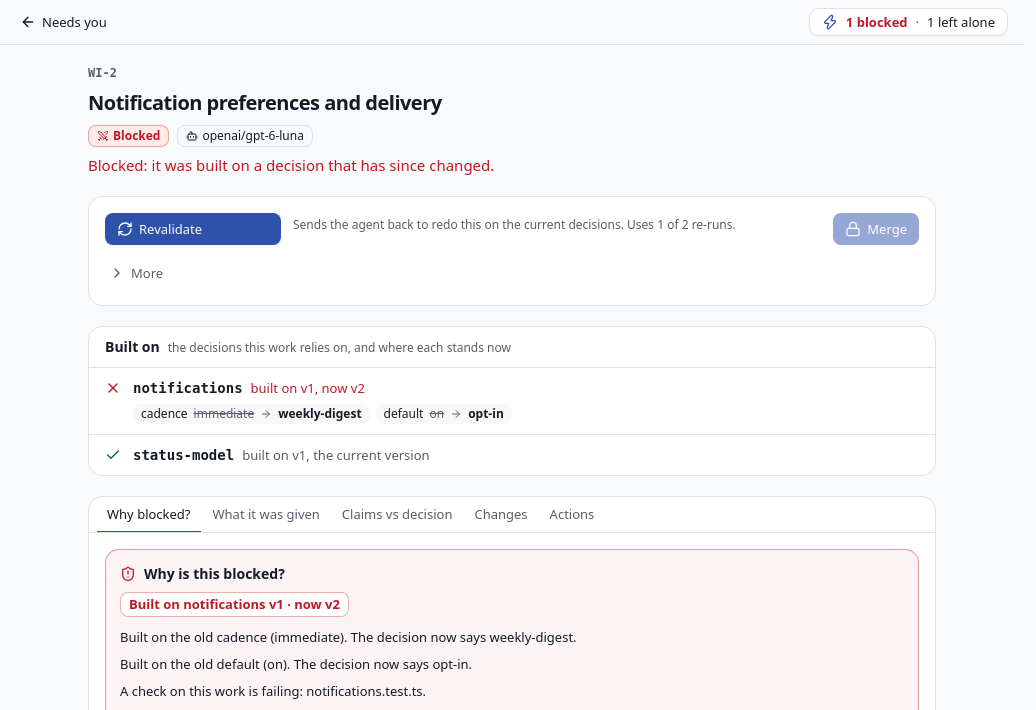
Test: the item page for blocked work › puts Allow with exception and Reject under More, with the exception form unchanged
Click the button with test id "item-more": (136, 273) [97, 257, 175, 289]
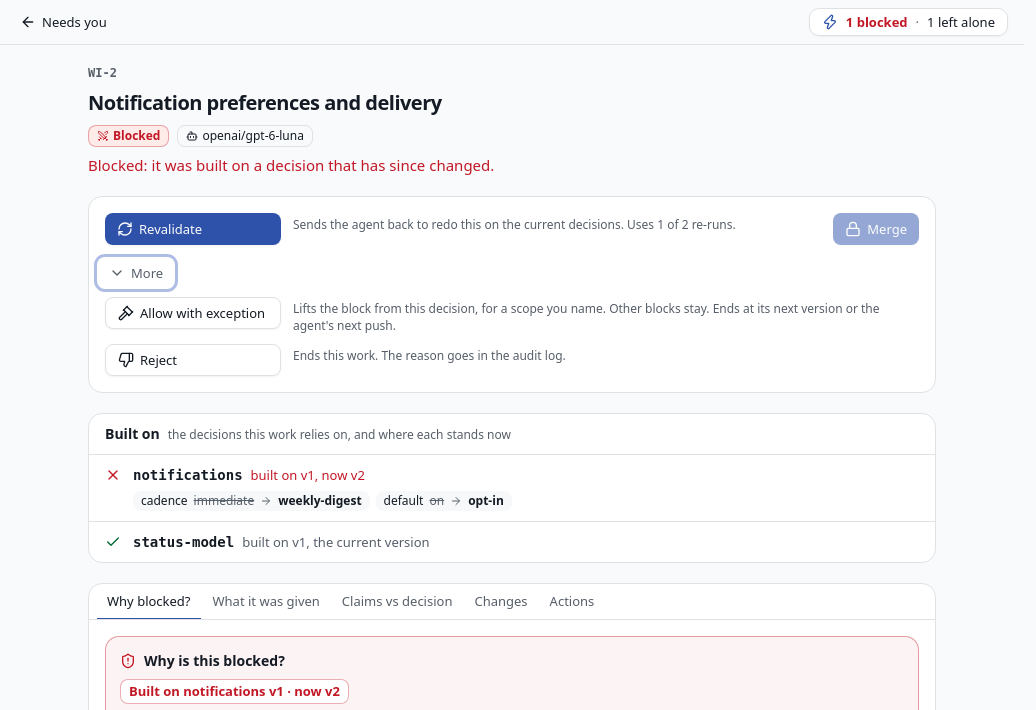
Now the button "Reject" is shown, box [105, 344, 281, 376]
Click the button "Allow with exception": (193, 313) [105, 297, 281, 329]
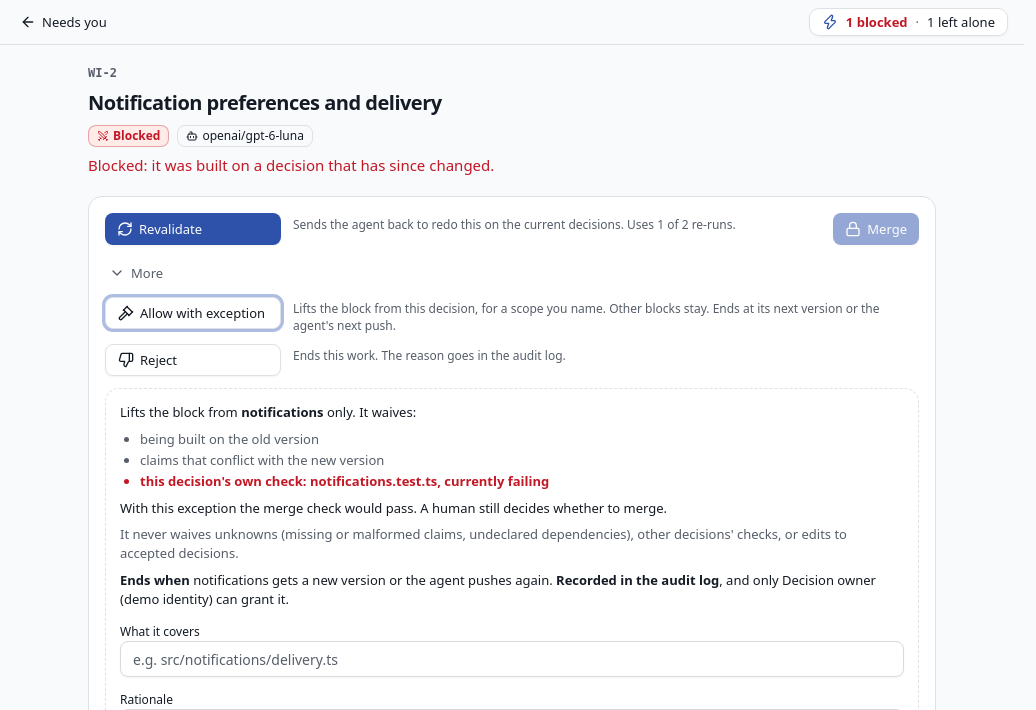
Now the field labelled "What it covers" is shown, box [120, 641, 904, 677]
